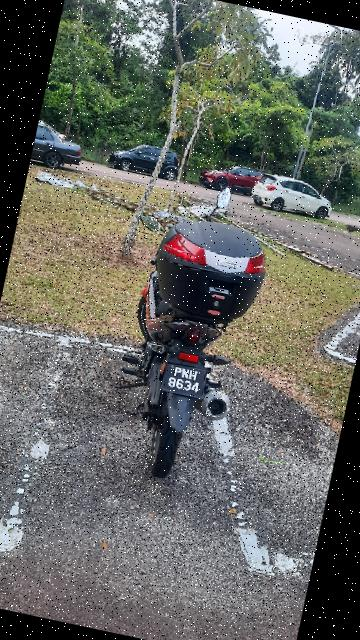License_Plate: (159, 358, 212, 403)
car: (247, 168, 339, 224), (108, 135, 184, 182), (197, 156, 272, 202), (33, 124, 92, 177)
motorcycle: (89, 179, 277, 492)
